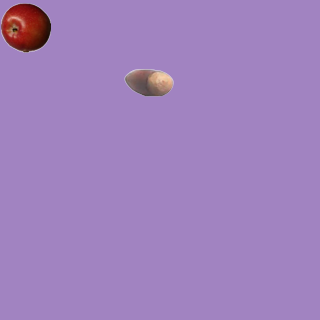Apple Braeburn: (0, 2, 50, 52)
Hazelnut: (123, 57, 173, 107)
